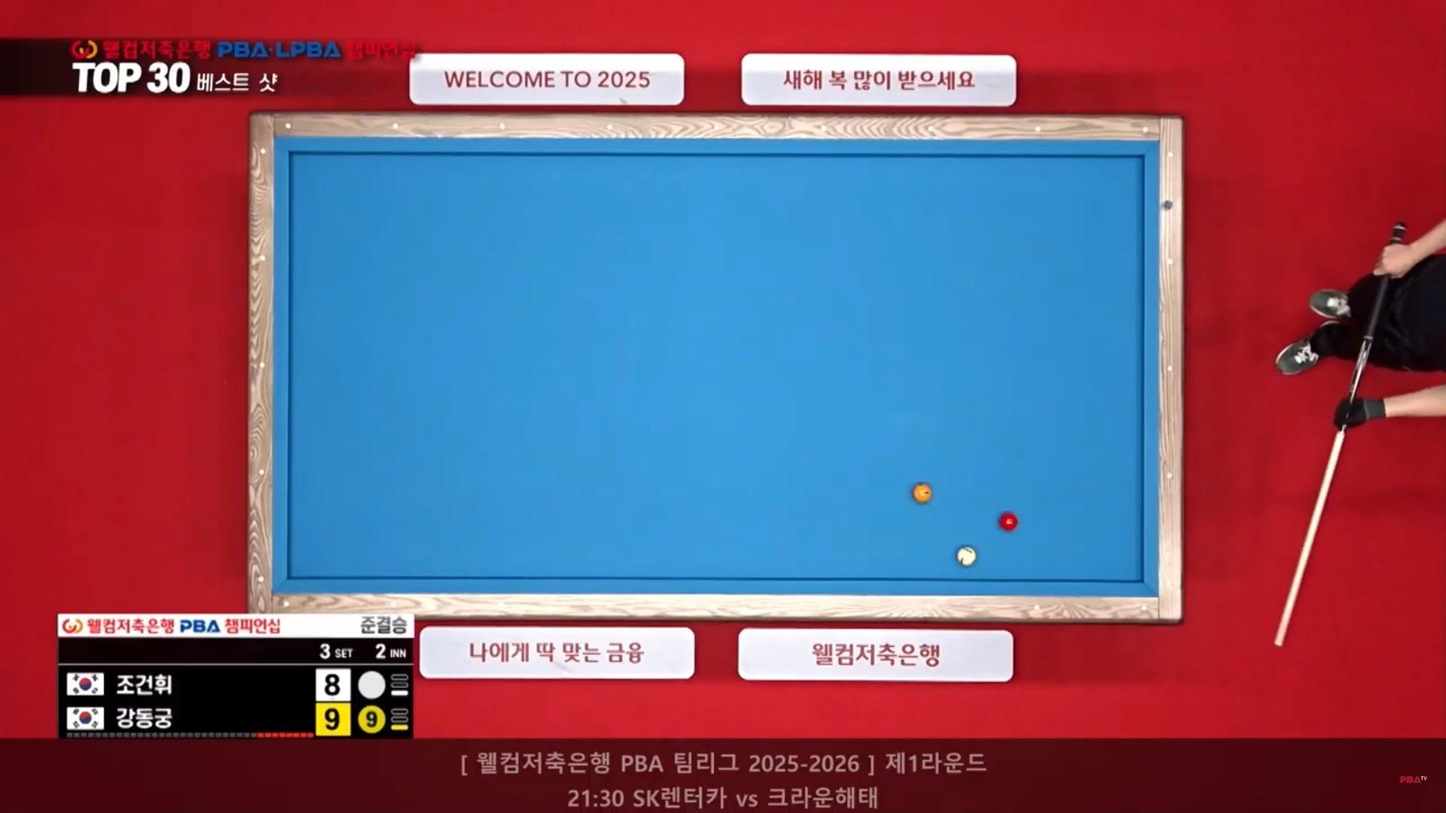Red: (1001, 515, 1024, 533)
White: (955, 546, 979, 565)
billiard-ball-Yellow: (912, 480, 934, 507)
